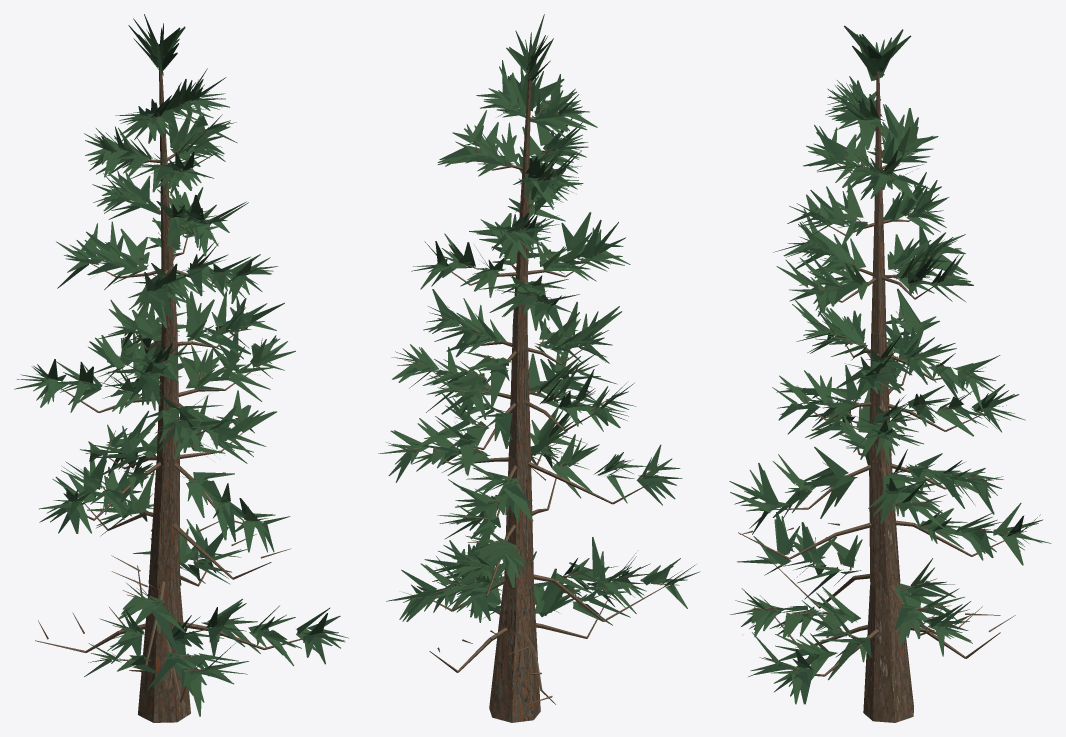
The model's file is detail_pine_far.glb.
3 views of the same model, side by side, from view 1: azimuth 30°, elevation 25°; view 2: azimuth 150°, elevation 25°; view 3: azimuth 270°, elevation 25° (orthographic). The views are drawn at different scales.
Visible parts, largest first — view 1: Cone; view 2: Cone; view 3: Cone.
Part boxes in pixels (x1,y1,x2,y2): Cone: [14, 14, 348, 722]; Cone: [378, 14, 700, 722]; Cone: [729, 25, 1051, 722].
Bounding box in the file's own units: 5.22 × 12.37 × 5.28.
3 materials, 1 textured.
